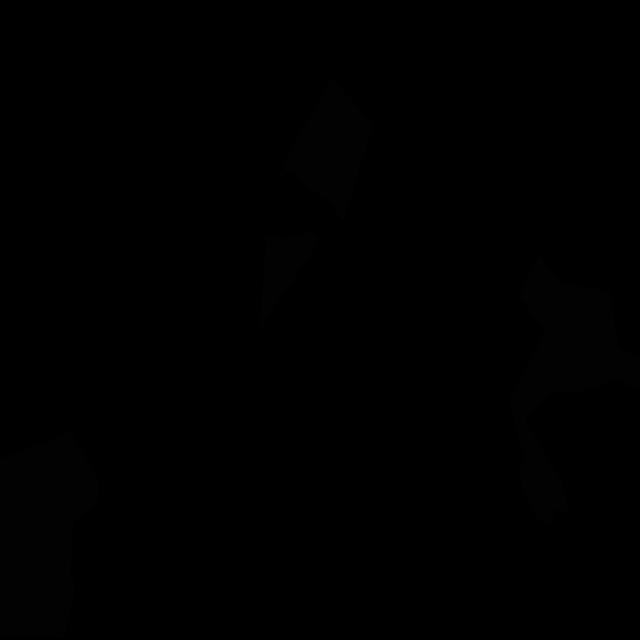cardboard: (508, 254, 640, 525), (0, 431, 99, 638), (279, 77, 374, 222), (259, 231, 320, 329)
